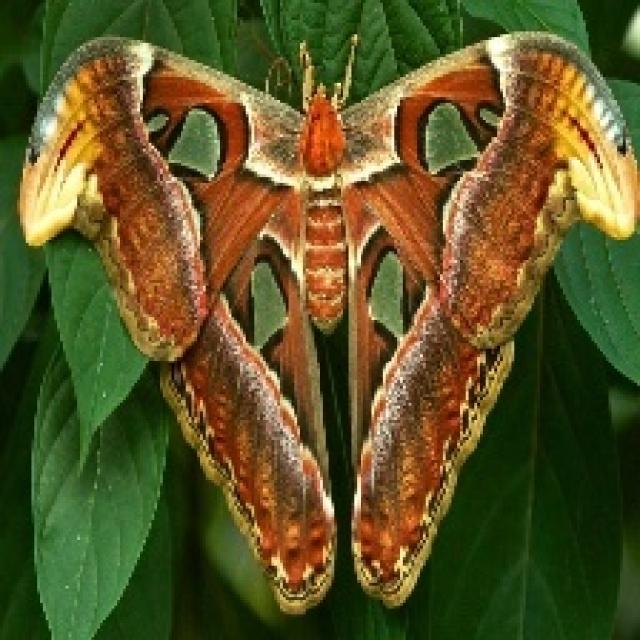butterfly: (14, 26, 637, 614)
